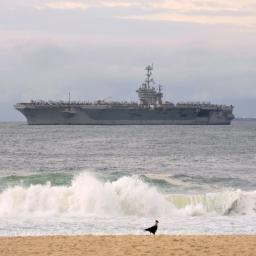Portanaves: (14, 60, 238, 129)
